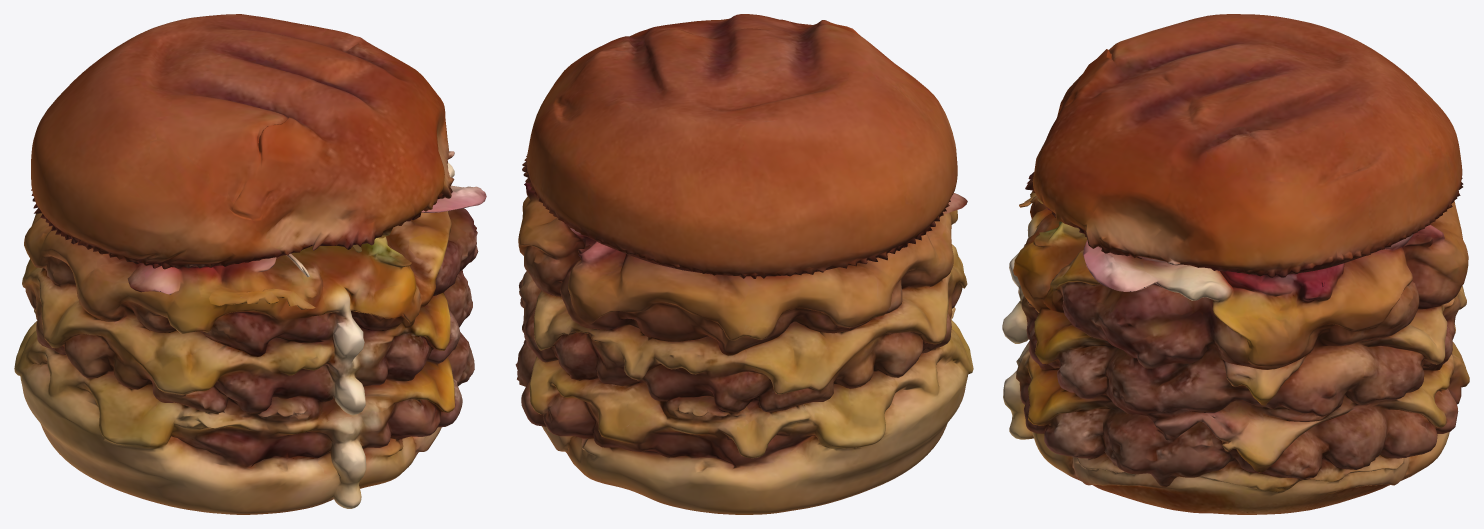
The model's file is triple.glb.
3 renders of one model, left to right at view 1: azimuth 30°, elevation 25°; view 2: azimuth 150°, elevation 25°; view 3: azimuth 270°, elevation 25°, orthographic. The views are drawn at different scales.
Visible parts, largest first — view 1: tripo_node_f460fa60-1354-4181-a5f5-dd53e09a599a; view 2: tripo_node_f460fa60-1354-4181-a5f5-dd53e09a599a; view 3: tripo_node_f460fa60-1354-4181-a5f5-dd53e09a599a.
Boxes of the visible parts, x1=… form: tripo_node_f460fa60-1354-4181-a5f5-dd53e09a599a: x1=14, y1=14, x2=486, y2=514; tripo_node_f460fa60-1354-4181-a5f5-dd53e09a599a: x1=515, y1=14, x2=973, y2=514; tripo_node_f460fa60-1354-4181-a5f5-dd53e09a599a: x1=1002, y1=14, x2=1469, y2=514.
Bounding box in the file's own units: 0.9792 × 0.8727 × 0.9782.
1 material, 1 textured.
